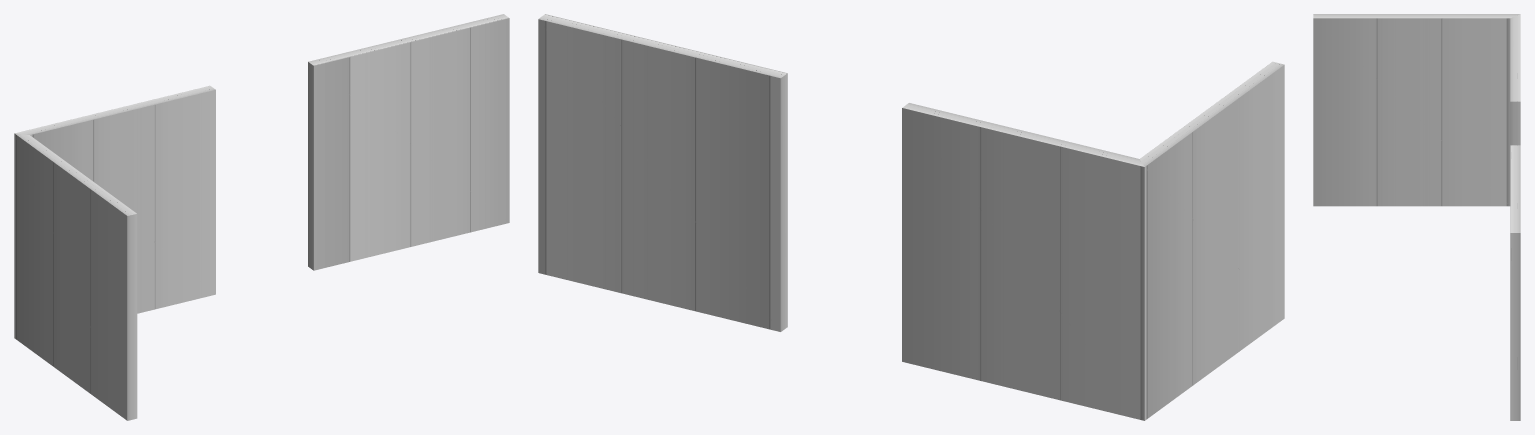
Rendered from Walls.fbx.
The picture shows the model from 3 angles, left to right: view 1: azimuth 30°, elevation 25°; view 2: azimuth 150°, elevation 25°; view 3: azimuth 270°, elevation 25°; orthographic projection. The views are drawn at different scales.
Parts seen in each view (by area): view 1: Cube.002, Cube.001; view 2: Cube.002, Cube.001; view 3: Cube.002, Cube.001.
Part boxes in pixels (left/top/right/bottom): Cube.002: left=14, top=85, right=215, bottom=420; Cube.001: left=308, top=14, right=509, bottom=270; Cube.002: left=902, top=61, right=1284, bottom=420; Cube.001: left=538, top=14, right=787, bottom=331; Cube.002: left=1313, top=14, right=1520, bottom=206; Cube.001: left=1510, top=145, right=1520, bottom=420.
Size of the model in its own units: 1000 by 400 by 400.
1 material, 1 textured.
